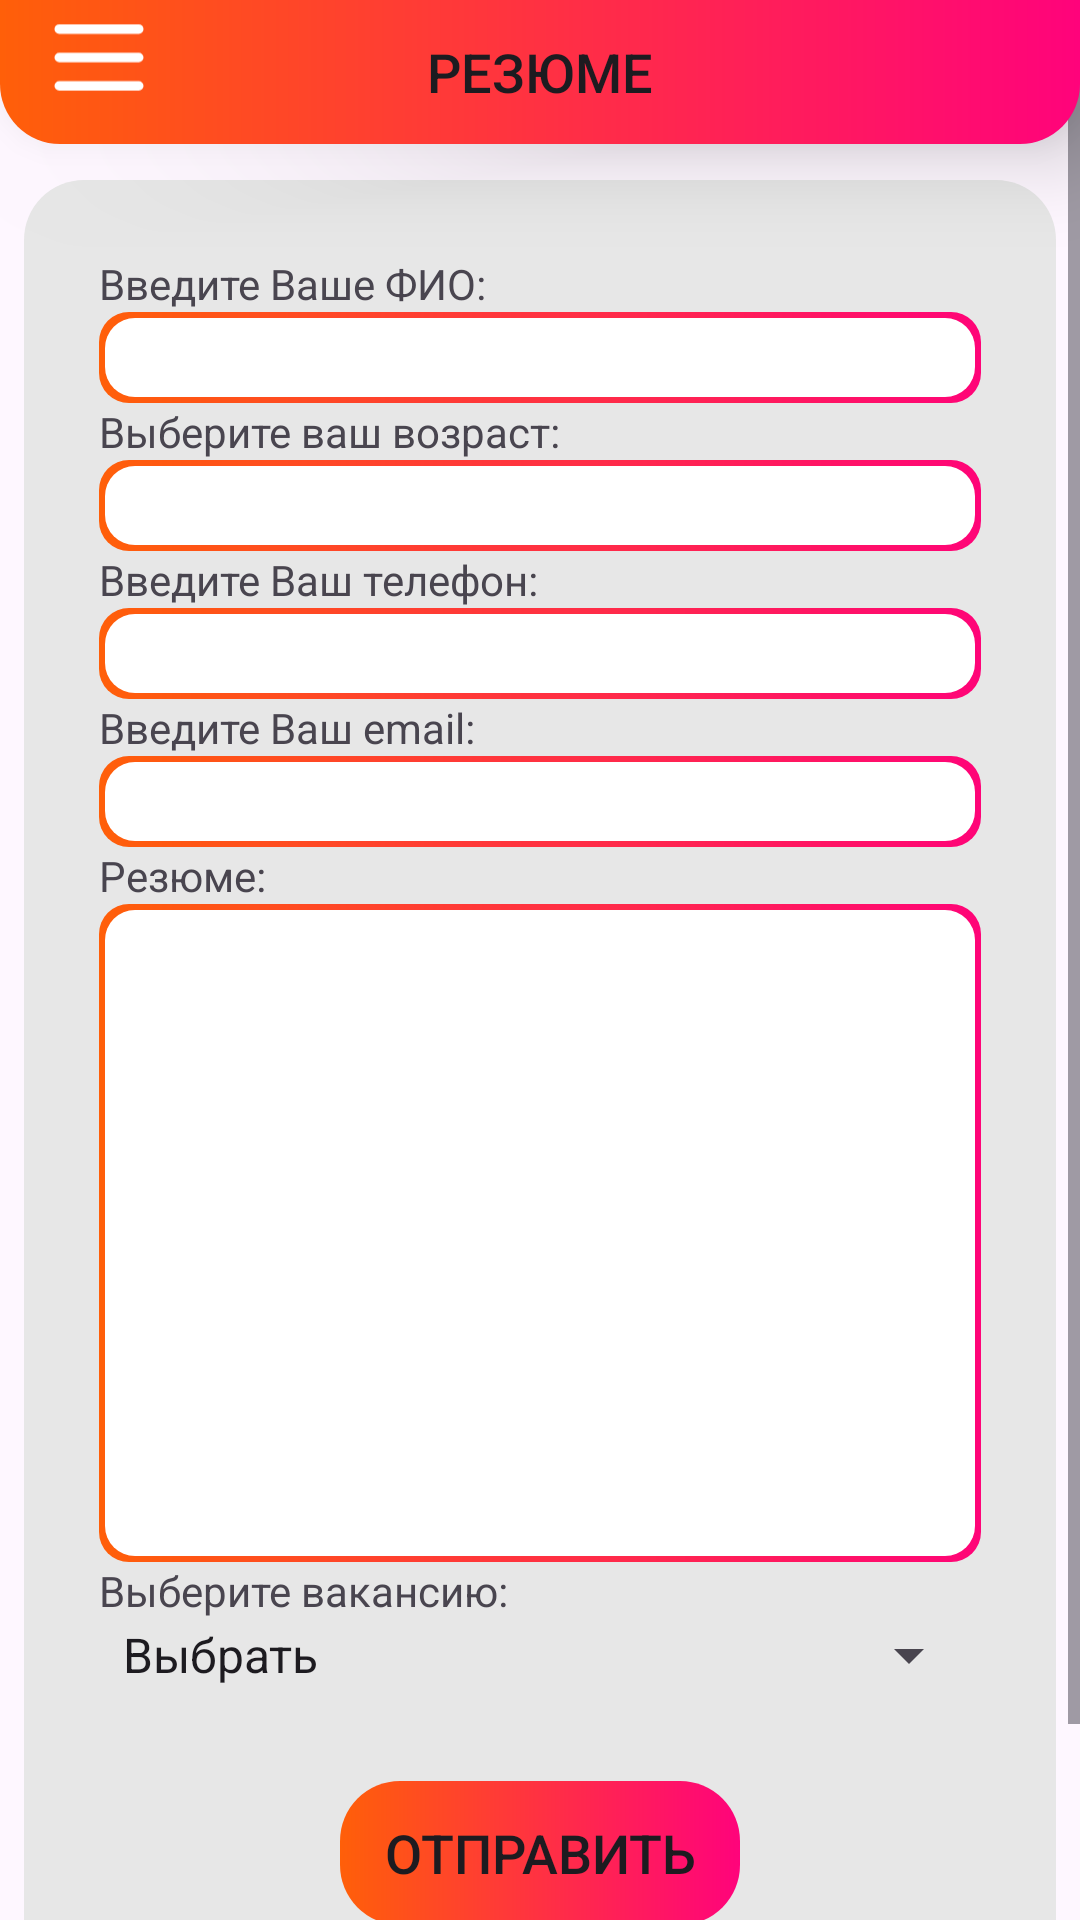

Icons on this 1080 × 1920 Android screen, each with the point to tap as (x,y):
burger menu: (99,57)
